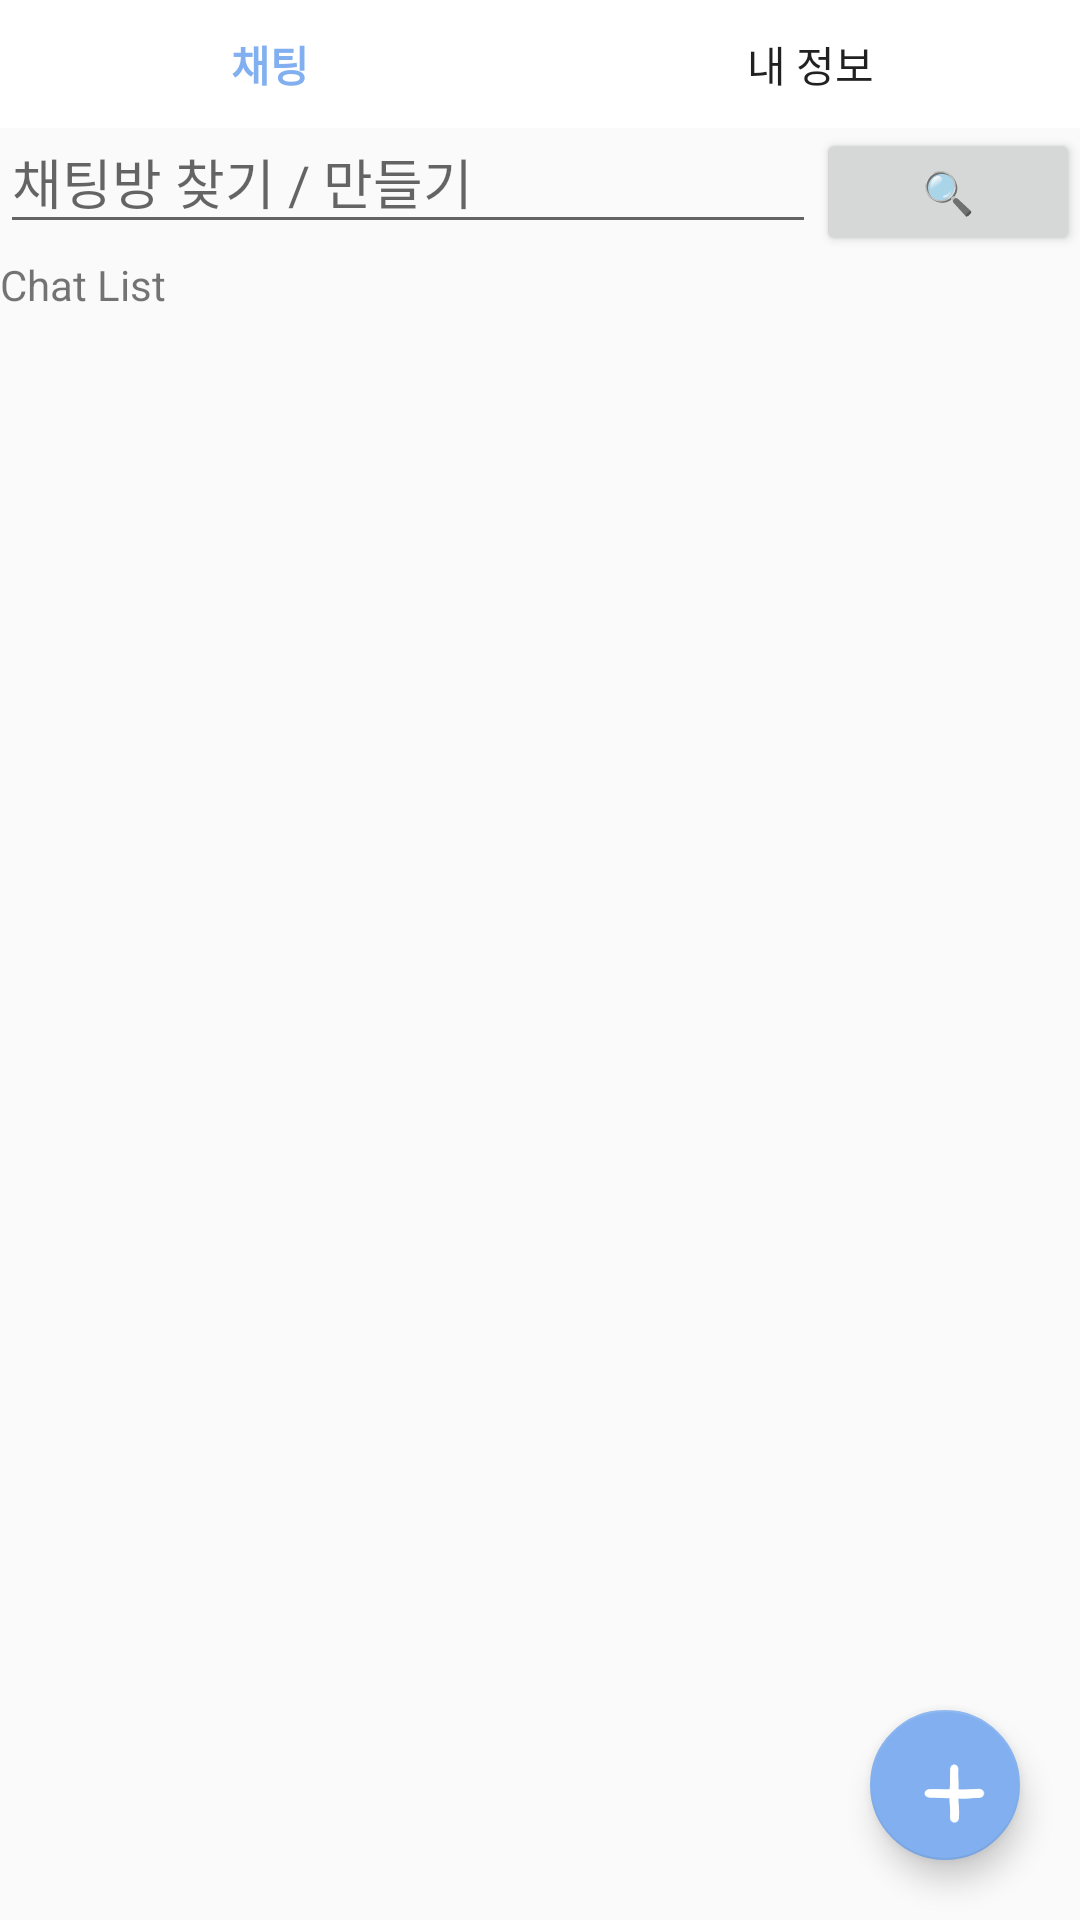

Icon click points for this 1080 x 1920 phone screenshot, format point (x, y):
plus: point (945, 1785)
